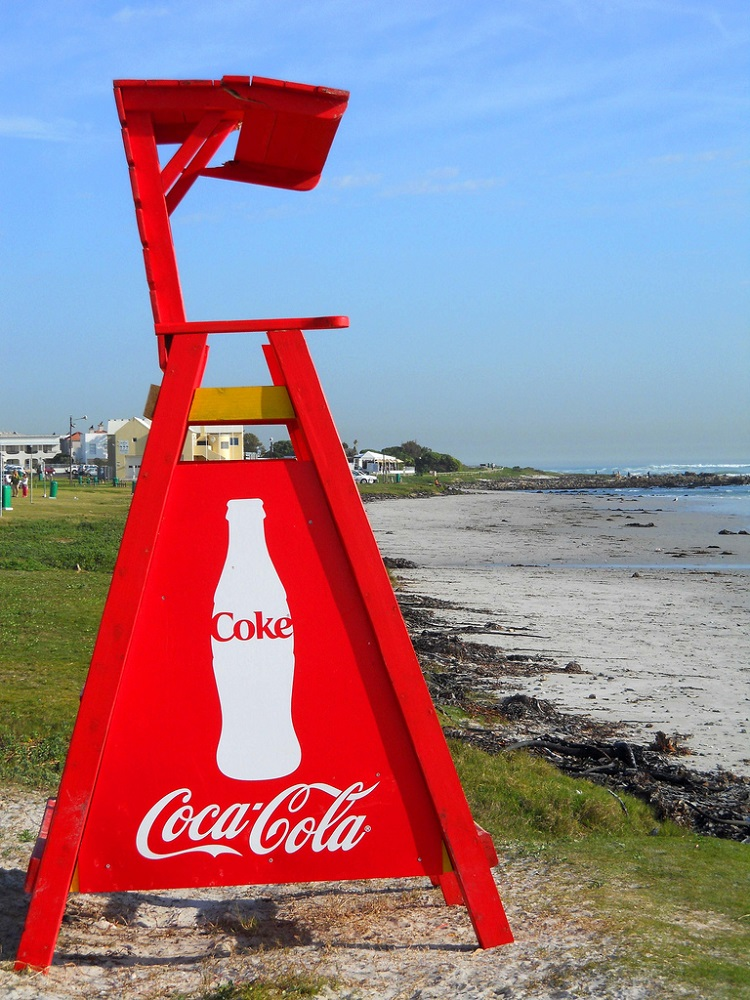coca_cola: (130, 776, 384, 863)
